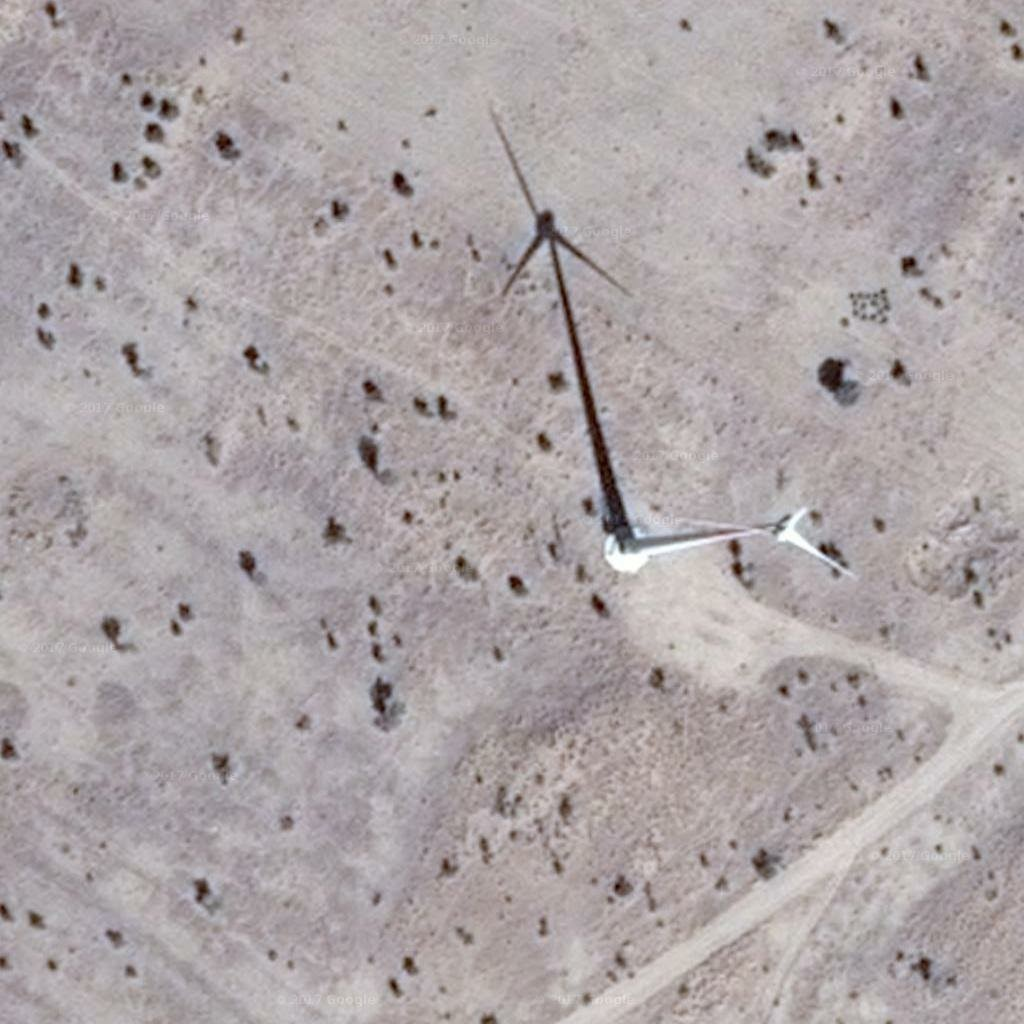Windmill: (484, 107, 647, 534)
